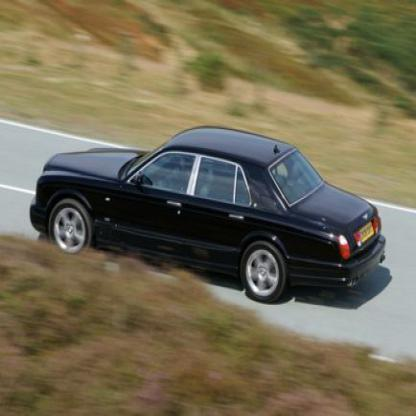car: (28, 119, 391, 308)
